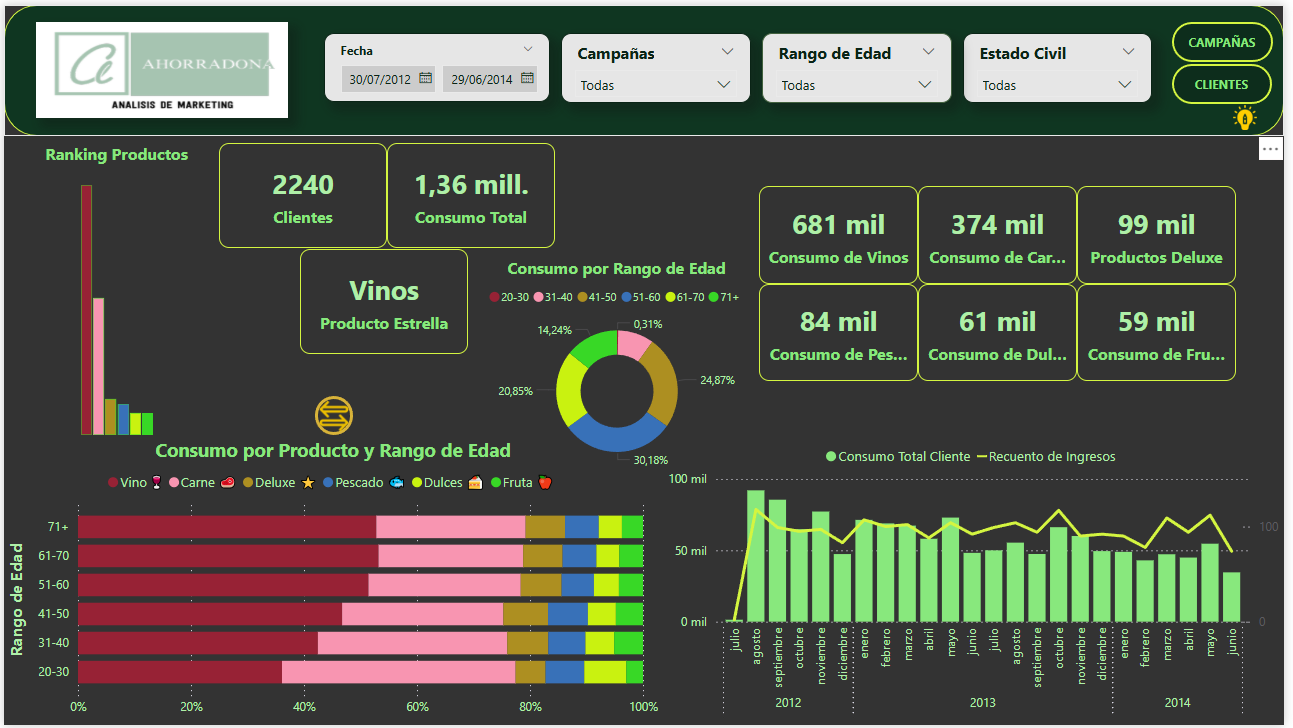

This screenshot's page, from the dashboard's own definition file:
{"tool":"powerbi","page":{"name":"Dark Resumen General","canvas":[1280,720],"ordinal":1},"visuals":[{"type":"shape","box":[0,0,1280,131.1],"z":0,"group":"g3"},{"type":"card","fields":{"Values":["DAX Medidas.Total Clientes"]},"box":[215.3,138.2,168.1,104.9],"z":0,"group":"g2"},{"type":"card","fields":{"Values":["DAX Medidas.Consumo Total P.Gold"]},"box":[1073.1,180.8,159.1,97.7],"z":0,"group":"g1"},{"type":"actionButton","title":"BotónLight/Dark","box":[1228.8,100,24.3,25.2],"z":500,"group":"g3"},{"type":"actionButton","title":"Botón Campañas","box":[1168.4,59.2,100,39.5],"z":625,"group":"g3"},{"type":"actionButton","title":"Botón Campañas","box":[1168.4,17.2,100.1,40],"z":750,"group":"g3"},{"type":"image","box":[31.9,17.3,252.5,95.7],"z":1000,"group":"g3"},{"type":"card","fields":{"Values":["DAX Medidas.Gasto Total Cliente"]},"box":[383.4,138.2,168.1,104.9],"z":1000,"group":"g2"},{"type":"card","fields":{"Values":["DAX Medidas.Consumo Total Frutas"]},"box":[1073.1,278.5,159.1,97.7],"z":1000,"group":"g1"},{"type":"slicer","fields":{"Values":["d_Clientes.Estado Civil"]},"box":[958.5,27.7,189.4,70.2],"z":1500,"group":"g3"},{"type":"donutChart","title":"Consumo por Rango de Edad","fields":{"Category":["d_Clientes.Rango de Edad"],"Y":["CountNonNull(d_Productos.Gasto Total Producto)"]},"box":[478.7,252.1,268.1,220.2],"z":1500},{"type":"slicer","title":"Fecha","fields":{"Values":["d_Calendario.Fecha"]},"box":[320.2,27.7,225.5,69.1],"z":2000,"group":"g3"},{"type":"card","fields":{"Values":["DAX Medidas.Producto Preferido"]},"box":[296.1,244.3,168.1,104.9],"z":2000,"group":"g2"},{"type":"card","fields":{"Values":["DAX Medidas.Consumo Total Dulces"]},"box":[914.1,278.5,159.1,97.7],"z":2000,"group":"g1"},{"type":"hundredPercentStackedBarChart","title":"Consumo por Producto y Rango de Edad","fields":{"Y":["Sum(d_Productos.MntWines)","Sum(d_Productos.MntMeatProducts)","Sum(d_Productos.MntGoldProds)","Sum(d_Productos.MntFishProducts)","Sum(d_Productos.MntSweetProducts)","Sum(d_Productos.MntFruits)"],"Category":["d_Clientes.Rango de Edad"]},"box":[0,432,659.3,288.4],"z":2000},{"type":"actionButton","title":"Botón ON","box":[310.6,391.5,38.3,38.3],"z":2625},{"type":"slicer","fields":{"Values":["d_Campañas.Campañas Aceptadas"]},"box":[556.5,27.7,190.4,70.2],"z":3000,"group":"g3"},{"type":"card","fields":{"Values":["DAX Medidas.Consumo Total Pescado"]},"box":[755,278.5,159.1,97.7],"z":3000,"group":"g1"},{"type":"lineStackedColumnComboChart","fields":{"Y":["DAX Medidas.Consumo Total Cliente"],"Y2":["CountNonNull(d_Clientes.Ingresos)"],"Category":["d_Calendario.Fecha.Variación.Jerarquía de fechas.Año","d_Calendario.Fecha.Variación.Jerarquía de fechas.Mes"]},"box":[659.3,430.5,620.7,289.2],"z":3000},{"type":"slicer","fields":{"Values":["d_Clientes.Rango de Edad"]},"box":[757.7,27.7,190,70],"z":4000,"group":"g3"},{"type":"clusteredColumnChart","title":"Ranking Productos","fields":{"Y":["Sum(d_Productos.MntWines)","Sum(d_Productos.MntMeatProducts)","Sum(d_Productos.MntGoldProds)","Sum(d_Productos.MntFishProducts)","Sum(d_Productos.MntSweetProducts)","Sum(d_Productos.MntFruits)"]},"box":[0,138.2,226,297.7],"z":4000},{"type":"card","fields":{"Values":["DAX Medidas.Consumo Total Vinos"]},"box":[755,180.8,159.1,97.7],"z":4000,"group":"g1"},{"type":"group","id":"g1","title":"Indicadores Consumo Individual","box":[755,180.8,477.2,195.4],"z":5000},{"type":"card","fields":{"Values":["DAX Medidas.Consumo Total Carne"]},"box":[914.1,180.8,159.1,97.7],"z":5000,"group":"g1"},{"type":"group","id":"g2","title":"Indicadores General","box":[215.3,138.2,336.3,211.3],"z":6000},{"type":"group","id":"g3","title":"Panel Superior","box":[0,0,1280,131.1],"z":8000}]}

Visuals, with their boxes in screenshot pixels (x1, y1, x2, y2), scaled from the page's 1280x720 canvas onto the 1293x728 screenshot:
shape: Rect(0, 0, 1292, 133)
card - DAX Medidas.Total Clientes: Rect(217, 140, 387, 246)
card - DAX Medidas.Consumo Total P.Gold: Rect(1084, 183, 1245, 282)
"BotónLight/Dark" actionButton: Rect(1241, 101, 1266, 127)
"Botón Campañas" actionButton: Rect(1180, 60, 1281, 100)
"Botón Campañas" actionButton: Rect(1180, 17, 1281, 58)
image: Rect(32, 17, 287, 114)
card - DAX Medidas.Gasto Total Cliente: Rect(387, 140, 557, 246)
card - DAX Medidas.Consumo Total Frutas: Rect(1084, 282, 1245, 380)
slicer - d_Clientes.Estado Civil: Rect(968, 28, 1160, 99)
"Consumo por Rango de Edad" donutChart: Rect(484, 255, 754, 478)
"Fecha" slicer: Rect(323, 28, 551, 98)
card - DAX Medidas.Producto Preferido: Rect(299, 247, 469, 353)
card - DAX Medidas.Consumo Total Dulces: Rect(923, 282, 1084, 380)
"Consumo por Producto y Rango de Edad" hundredPercentStackedBarChart: Rect(0, 437, 666, 727)
"Botón ON" actionButton: Rect(314, 396, 352, 435)
slicer - d_Campañas.Campañas Aceptadas: Rect(562, 28, 754, 99)
card - DAX Medidas.Consumo Total Pescado: Rect(763, 282, 923, 380)
lineStackedColumnComboChart - DAX Medidas.Consumo Total Cliente x CountNonNull(d_Clientes.Ingresos): Rect(666, 435, 1292, 727)
slicer - d_Clientes.Rango de Edad: Rect(765, 28, 957, 99)
"Ranking Productos" clusteredColumnChart: Rect(0, 140, 228, 441)
card - DAX Medidas.Consumo Total Vinos: Rect(763, 183, 923, 282)
"Indicadores Consumo Individual" group: Rect(763, 183, 1245, 380)
card - DAX Medidas.Consumo Total Carne: Rect(923, 183, 1084, 282)
"Indicadores General" group: Rect(217, 140, 557, 353)
"Panel Superior" group: Rect(0, 0, 1292, 133)
